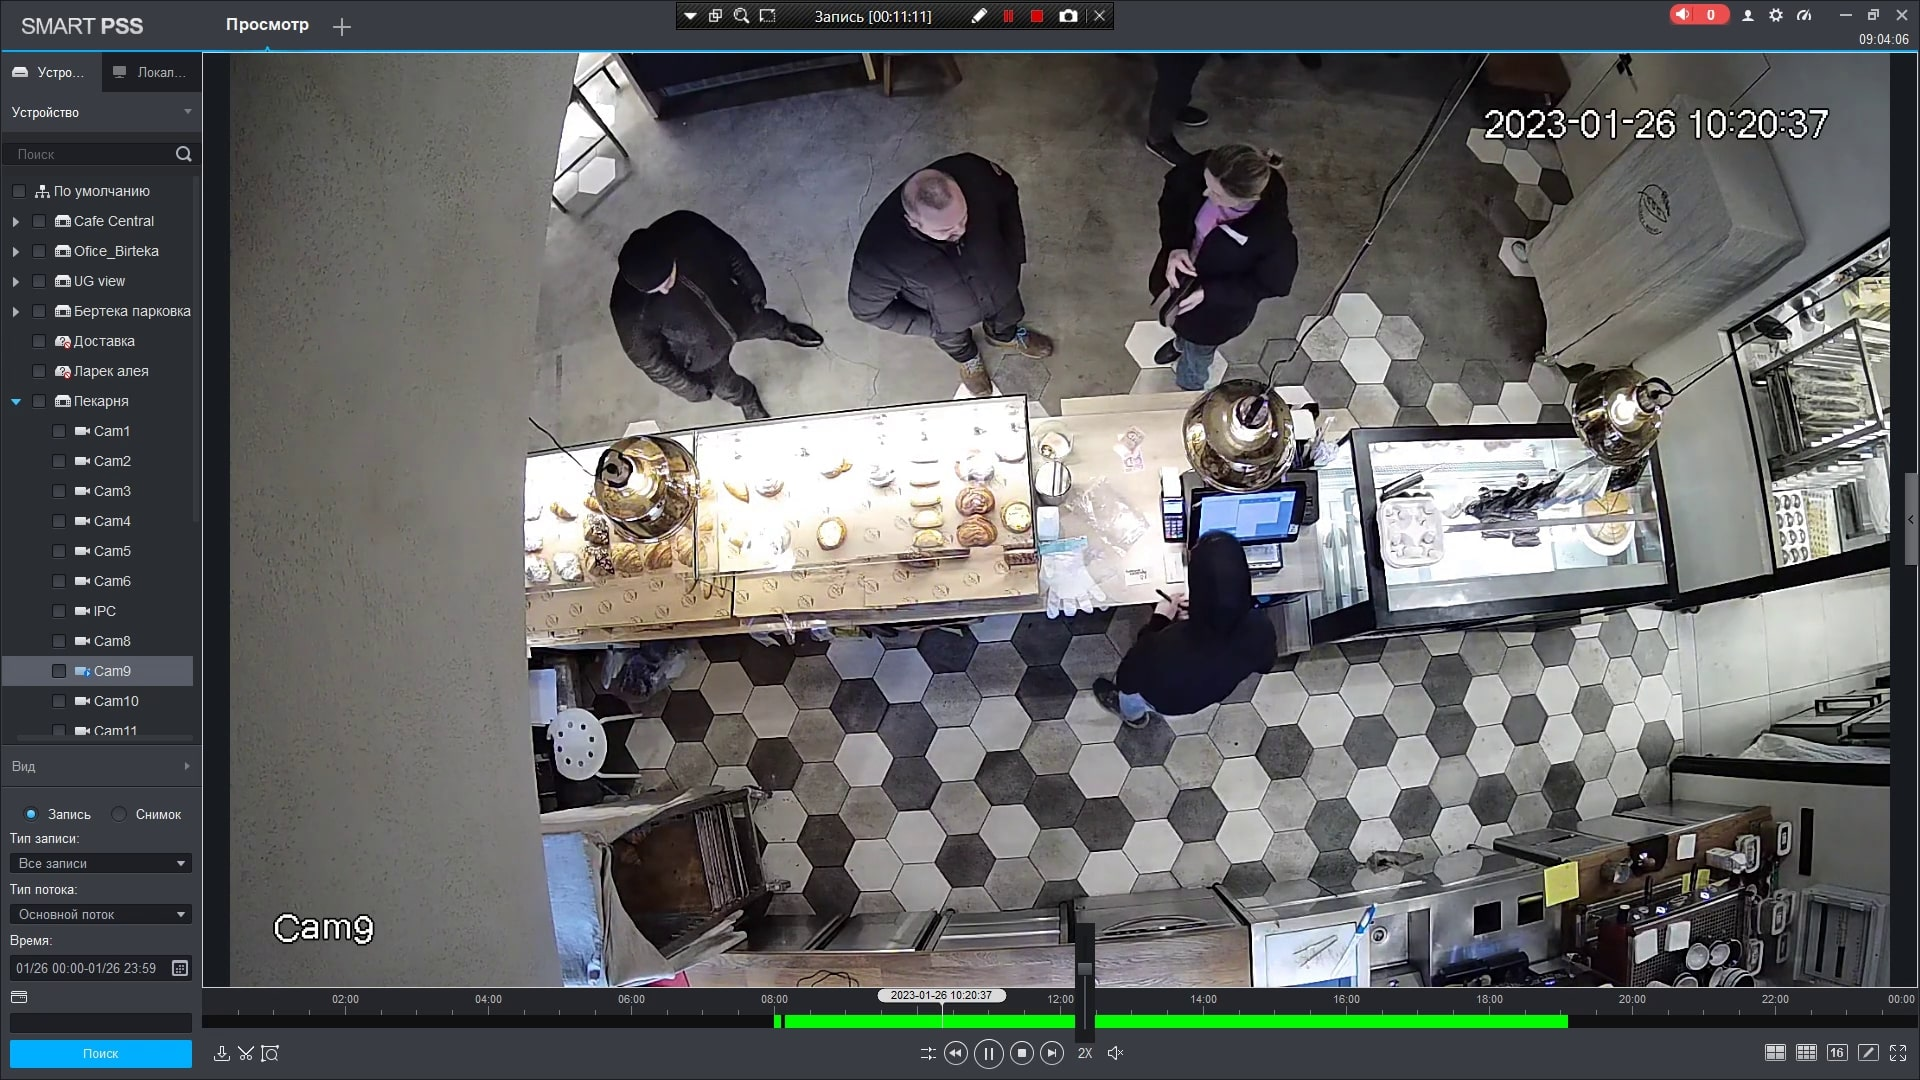barcounter: (476, 429, 1710, 654)
person: (590, 197, 825, 428), (851, 153, 1078, 389), (1134, 119, 1295, 416), (1122, 543, 1283, 736)
